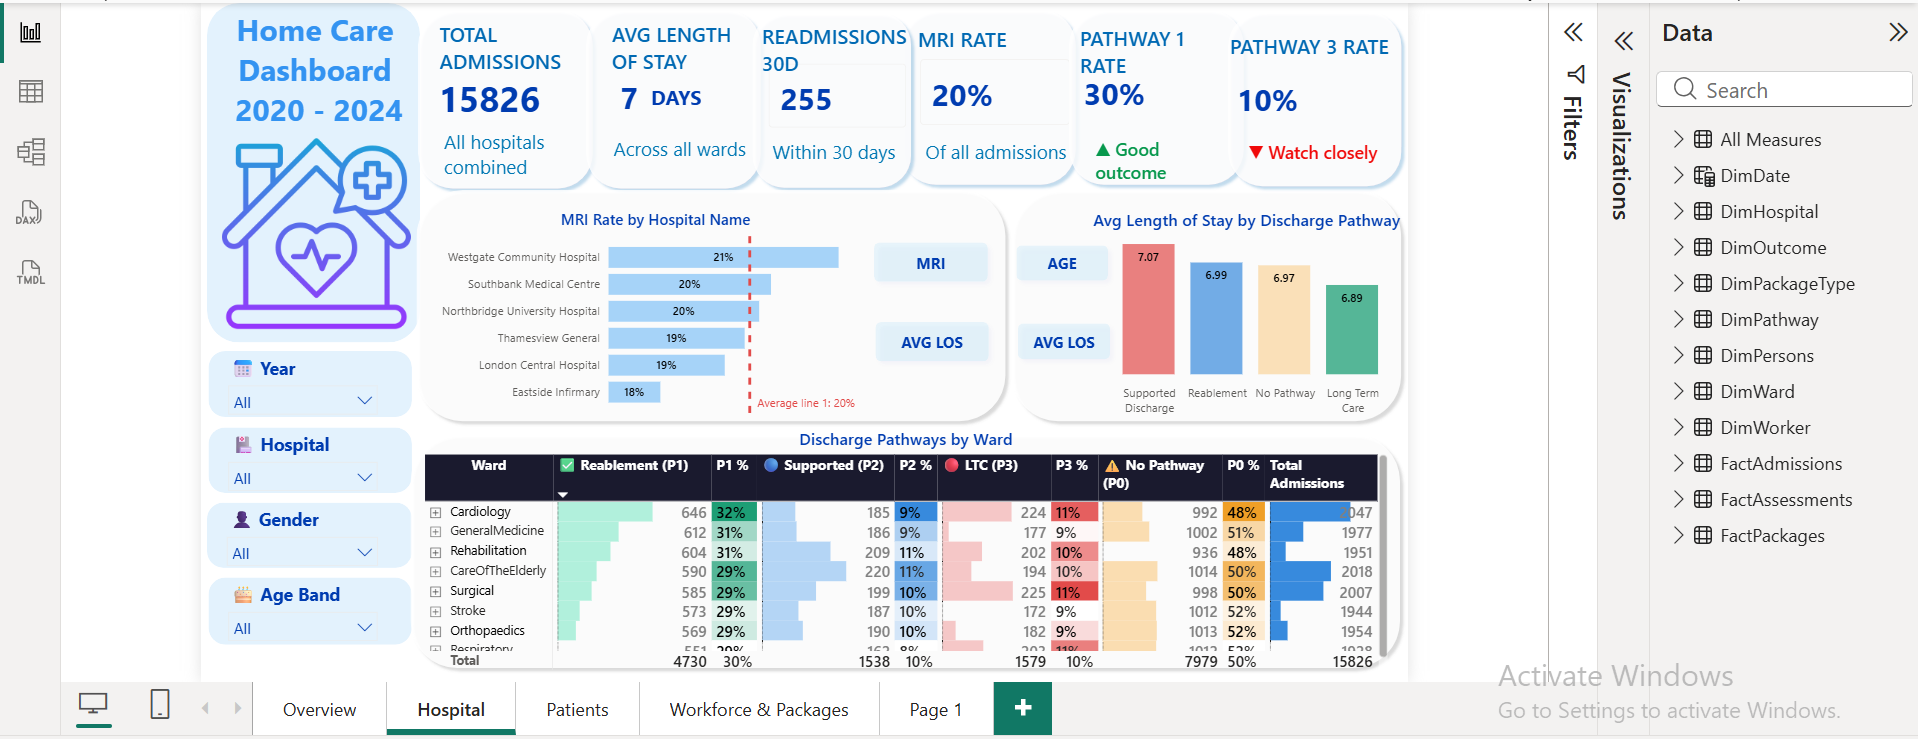

This screenshot's page, from the dashboard's own definition file:
{"tool":"powerbi","page":{"name":"Hospital","canvas":[1280,720],"ordinal":1},"visuals":[{"type":"group","id":"g1","title":"Group 1","box":[0,0,250.4,360.1],"z":0},{"type":"shape","box":[6.4,0,226,360.1],"z":0,"group":"g1"},{"type":"shape","box":[222.1,0,200,204.1],"z":0,"group":"g6"},{"type":"shape","box":[400.8,0,200,204.1],"z":0,"group":"g7"},{"type":"shape","box":[734.9,0,200,200],"z":0,"group":"g8"},{"type":"shape","box":[913,0,200,200],"z":0,"group":"g9"},{"type":"shape","box":[1082.5,1.9,198.6,200],"z":0,"group":"g13"},{"type":"shape","title":"card 3","box":[577.4,3.2,182.9,200],"z":0,"group":"g10"},{"type":"shape","box":[7.7,369.8,215.7,70],"z":0,"group":"g2"},{"type":"shape","box":[214.7,450.1,1064.1,262.5],"z":0,"group":"g11"},{"type":"shape","box":[7.7,450.6,215.7,69.3],"z":0,"group":"g3"},{"type":"shape","box":[5.8,529.6,217.6,69.3],"z":0,"group":"g4"},{"type":"shape","box":[7.7,608.6,215.7,71.3],"z":0,"group":"g5"},{"type":"textbox","box":[0,0,250.4,148.2],"z":1000,"group":"g1"},{"type":"cardVisual","fields":{"Data":["All Measures.Pathway 1 Rate"]},"box":[918.8,52,188.7,154.1],"z":1000,"group":"g9"},{"type":"cardVisual","fields":{"Data":["All Measures.MRI Rate"]},"box":[757.8,54.1,169.7,80.3],"z":1000,"group":"g8"},{"type":"cardVisual","fields":{"Data":["All Measures.Total Admissions"]},"box":[227.9,55.8,169.5,80.3],"z":1000,"group":"g6"},{"type":"cardVisual","fields":{"Data":["All Measures.Avg Length of Stay"]},"box":[427.7,57.6,67.4,80.3],"z":1000,"group":"g7"},{"type":"cardVisual","fields":{"Data":["All Measures.Readmissions 30 Days"]},"box":[597.1,59.6,156.1,78.4],"z":1000,"group":"g10"},{"type":"cardVisual","fields":{"Data":["All Measures.Pathway 3 Rate"]},"box":[1082.3,64.5,198.4,138.7],"z":1000,"group":"g13"},{"type":"shape","box":[853.1,190.7,427.5,260],"z":1000},{"type":"slicer","fields":{"Values":["DimDate.Year"]},"box":[19,369.8,178.2,70],"z":1000,"group":"g2"},{"type":"slicer","fields":{"Values":["DimHospital.Hospital Name"]},"box":[19,450.6,178.2,69.3],"z":1000,"group":"g3"},{"type":"slicer","fields":{"Values":["DimPersons.gender"]},"box":[17.2,529.6,179.8,69.3],"z":1000,"group":"g4"},{"type":"slicer","fields":{"Values":["DimPersons.Age Band"]},"box":[19,608.6,178.2,71.3],"z":1000,"group":"g5"},{"type":"shape","box":[1091.9,5.8,183,80.9],"z":2000,"group":"g13"},{"type":"shape","box":[932.2,11.6,163.7,79],"z":2000,"group":"g9"},{"type":"shape","title":"Readmissions 30d","box":[594.9,12.7,170.2,71.6],"z":2000,"group":"g10"},{"type":"shape","box":[437.4,119.4,186.8,71.3],"z":2000,"group":"g7"},{"type":"shape","box":[767.6,123.3,186.8,71.3],"z":2000,"group":"g8"},{"type":"shape","box":[256.8,123.9,186.8,71.5],"z":2000,"group":"g6"},{"type":"image","box":[12.8,143.4,219.5,202.4],"z":2000,"group":"g1"},{"type":"group","id":"g2","title":"Group 2","box":[7.7,369.8,215.7,71.3],"z":2000},{"type":"shape","box":[759.9,1.9,186.8,73.2],"z":3000,"group":"g8"},{"type":"shape","box":[252.9,10.5,186.8,71.5],"z":3000,"group":"g6"},{"type":"shape","box":[436.1,11.1,154.3,71.6],"z":3000,"group":"g7"},{"type":"shape","box":[606.4,121.9,171,70.3],"z":3000,"group":"g10"},{"type":"group","id":"g3","title":"Group 2","box":[7.7,450.6,215.7,69.3],"z":3000},{"type":"shape","box":[477.8,71.5,86.7,55.8],"z":4000,"group":"g7"},{"type":"group","id":"g4","title":"Group 2","box":[5.8,529.6,217.6,69.3],"z":4000},{"type":"group","id":"g5","title":"Group 2","box":[7.7,608.6,215.7,71.3],"z":5000},{"type":"group","id":"g6","title":"Card 1","box":[222.1,0,221.5,204.1],"z":6000},{"type":"group","id":"g7","title":"Card 2","box":[400.8,0,223.4,204.1],"z":7000},{"type":"group","id":"g8","title":"Card 4","box":[734.9,0,219.5,200],"z":8000},{"type":"group","id":"g9","title":"Card 5","box":[913,0,200,206.1],"z":9000},{"type":"group","id":"g10","title":"Card 3","box":[577.4,3.2,200.4,200.4],"z":11000},{"type":"group","id":"g11","title":"trend","box":[214.7,450.1,1064.1,262.5],"z":11000,"group":"g12"},{"type":"group","id":"g12","title":"Group 3","box":[214.7,450.1,1064.1,262.5],"z":12000},{"type":"group","id":"g13","title":"Group 4","box":[1082.3,1.9,198.9,201.2],"z":13000},{"type":"shape","box":[221.5,190.7,639.4,260],"z":14000},{"type":"clusteredBarChart","fields":{"Category":["DimPersons.Age Band"],"Y":["All Measures.Total Admissions"]},"box":[951.2,210,324.5,232.2],"z":15000},{"type":"actionButton","title":"ADM BY AGE","box":[855.7,248.1,115,55],"z":17000},{"type":"pivotTable","title":"Discharge Pathways by Ward","fields":{"Rows":["DimWard.Ward","DimHospital.Hospital Name"],"Values":["All Measures.P1 Count","All Measures.Pathway 1 Rate","All Measures.P2 Count","All Measures.Pathway 2 Rate","All Measures.P3 Count","All Measures.Pathway 3 Rate","All Measures.P0 Count","All Measures.No Pathway Rate","All Measures.Total Admissions"]},"box":[232.2,450.1,1030.7,262.5],"z":17001,"group":"g12"},{"type":"actionButton","title":"AVG LOS","box":[857,331.2,115.5,55.8],"z":18000},{"type":"actionButton","title":"MRI","box":[704.8,244.6,138.7,59.7],"z":21000},{"type":"actionButton","title":"LOS/ HOS","box":[696.7,369,138.4,60.4],"z":22000},{"type":"actionButton","title":"MRI/Pathway","box":[704.6,300.6,140,60.4],"z":22001},{"type":"clusteredBarChart","fields":{"Category":["DimPathway.Pathway"],"Y":["All Measures.MRI Rate"]},"box":[241.8,225.5,483.6,217.4],"z":22002}]}

Visuals, with their boxes on the page's 1280x720 design canvas (x1, y1, x2, y2). These are canvas units, not pixel positions in the 1918x739 screenshot, which may show the page scaled, cropped or inside an application window:
"Group 1" group: left=0, top=0, right=250, bottom=360
shape: left=6, top=0, right=232, bottom=360
shape: left=222, top=0, right=422, bottom=204
shape: left=401, top=0, right=601, bottom=204
shape: left=735, top=0, right=935, bottom=200
shape: left=913, top=0, right=1113, bottom=200
shape: left=1082, top=2, right=1281, bottom=202
"card 3" shape: left=577, top=3, right=760, bottom=203
shape: left=8, top=370, right=223, bottom=440
shape: left=215, top=450, right=1279, bottom=713
shape: left=8, top=451, right=223, bottom=520
shape: left=6, top=530, right=223, bottom=599
shape: left=8, top=609, right=223, bottom=680
textbox: left=0, top=0, right=250, bottom=148
cardVisual - All Measures.Pathway 1 Rate: left=919, top=52, right=1108, bottom=206
cardVisual - All Measures.MRI Rate: left=758, top=54, right=928, bottom=134
cardVisual - All Measures.Total Admissions: left=228, top=56, right=397, bottom=136
cardVisual - All Measures.Avg Length of Stay: left=428, top=58, right=495, bottom=138
cardVisual - All Measures.Readmissions 30 Days: left=597, top=60, right=753, bottom=138
cardVisual - All Measures.Pathway 3 Rate: left=1082, top=64, right=1281, bottom=203
shape: left=853, top=191, right=1281, bottom=451
slicer - DimDate.Year: left=19, top=370, right=197, bottom=440
slicer - DimHospital.Hospital Name: left=19, top=451, right=197, bottom=520
slicer - DimPersons.gender: left=17, top=530, right=197, bottom=599
slicer - DimPersons.Age Band: left=19, top=609, right=197, bottom=680
shape: left=1092, top=6, right=1275, bottom=87
shape: left=932, top=12, right=1096, bottom=91
"Readmissions 30d" shape: left=595, top=13, right=765, bottom=84
shape: left=437, top=119, right=624, bottom=191
shape: left=768, top=123, right=954, bottom=195
shape: left=257, top=124, right=444, bottom=195
image: left=13, top=143, right=232, bottom=346
"Group 2" group: left=8, top=370, right=223, bottom=441
shape: left=760, top=2, right=947, bottom=75
shape: left=253, top=10, right=440, bottom=82
shape: left=436, top=11, right=590, bottom=83
shape: left=606, top=122, right=777, bottom=192
"Group 2" group: left=8, top=451, right=223, bottom=520
shape: left=478, top=72, right=564, bottom=127
"Group 2" group: left=6, top=530, right=223, bottom=599
"Group 2" group: left=8, top=609, right=223, bottom=680
"Card 1" group: left=222, top=0, right=444, bottom=204
"Card 2" group: left=401, top=0, right=624, bottom=204
"Card 4" group: left=735, top=0, right=954, bottom=200
"Card 5" group: left=913, top=0, right=1113, bottom=206
"Card 3" group: left=577, top=3, right=778, bottom=204
"trend" group: left=215, top=450, right=1279, bottom=713
"Group 3" group: left=215, top=450, right=1279, bottom=713
"Group 4" group: left=1082, top=2, right=1281, bottom=203
shape: left=222, top=191, right=861, bottom=451
clusteredBarChart - DimPersons.Age Band x All Measures.Total Admissions: left=951, top=210, right=1276, bottom=442
"ADM BY AGE" actionButton: left=856, top=248, right=971, bottom=303
"Discharge Pathways by Ward" pivotTable: left=232, top=450, right=1263, bottom=713
"AVG LOS" actionButton: left=857, top=331, right=972, bottom=387
"MRI" actionButton: left=705, top=245, right=844, bottom=304
"LOS/ HOS" actionButton: left=697, top=369, right=835, bottom=429
"MRI/Pathway" actionButton: left=705, top=301, right=845, bottom=361
clusteredBarChart - DimPathway.Pathway x All Measures.MRI Rate: left=242, top=226, right=725, bottom=443
